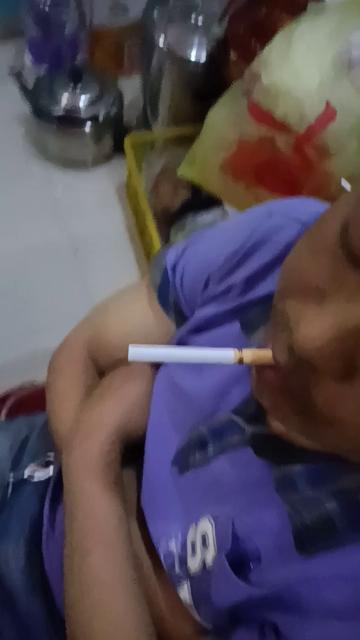Cigarette: (129, 344, 275, 368)
